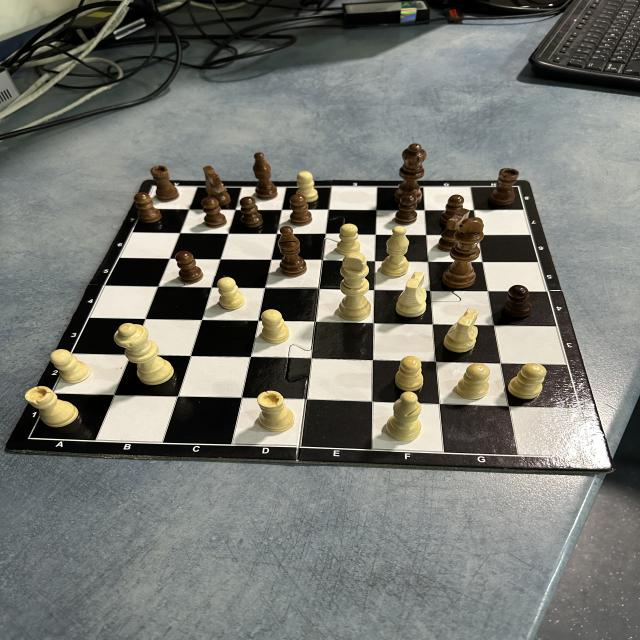Black-Bishop: (278, 226, 307, 277), (253, 152, 278, 200)
Black-King: (441, 217, 485, 289)
Black-Knight: (437, 208, 470, 253), (202, 165, 232, 207)
Black-Pawn: (174, 250, 204, 284), (503, 284, 532, 318), (200, 197, 228, 229), (134, 192, 162, 224), (239, 196, 264, 228), (440, 194, 464, 227), (394, 194, 418, 226), (289, 194, 313, 226)
Black-Queen: (395, 143, 427, 206)
Black-Rook: (489, 168, 519, 206), (150, 166, 179, 202)
White-Bishop: (386, 391, 422, 442), (381, 225, 410, 277)
White-King: (338, 252, 372, 322)
White-Knight: (443, 308, 479, 353), (394, 272, 428, 318)
White-Pawn: (49, 348, 91, 384), (508, 363, 546, 400), (456, 363, 491, 400), (394, 356, 424, 392), (261, 308, 290, 344), (217, 277, 246, 310), (337, 223, 361, 256), (296, 171, 319, 203)
White-Queen: (113, 322, 175, 386)
White-Rook: (24, 386, 80, 428), (256, 390, 295, 432)
